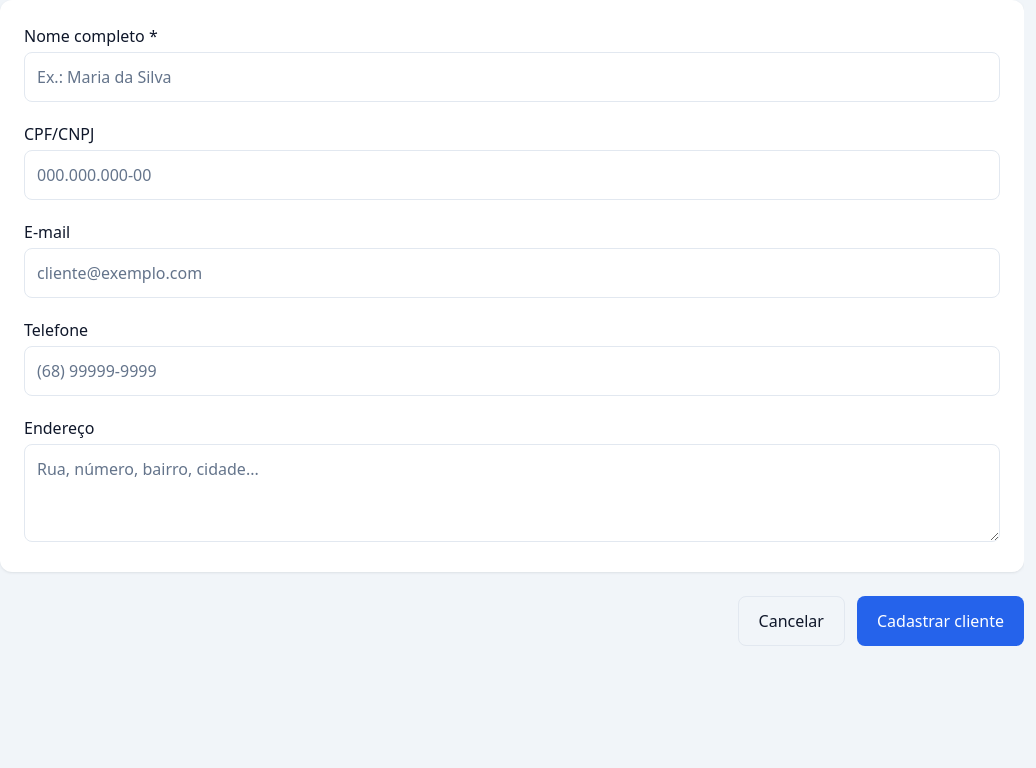
Test: CustomerForm › erro de campo sem campo visível cai no alerta geral
In the field labelled "Nome completo *": (512, 77) [24,52,1000,102], type "Maria"
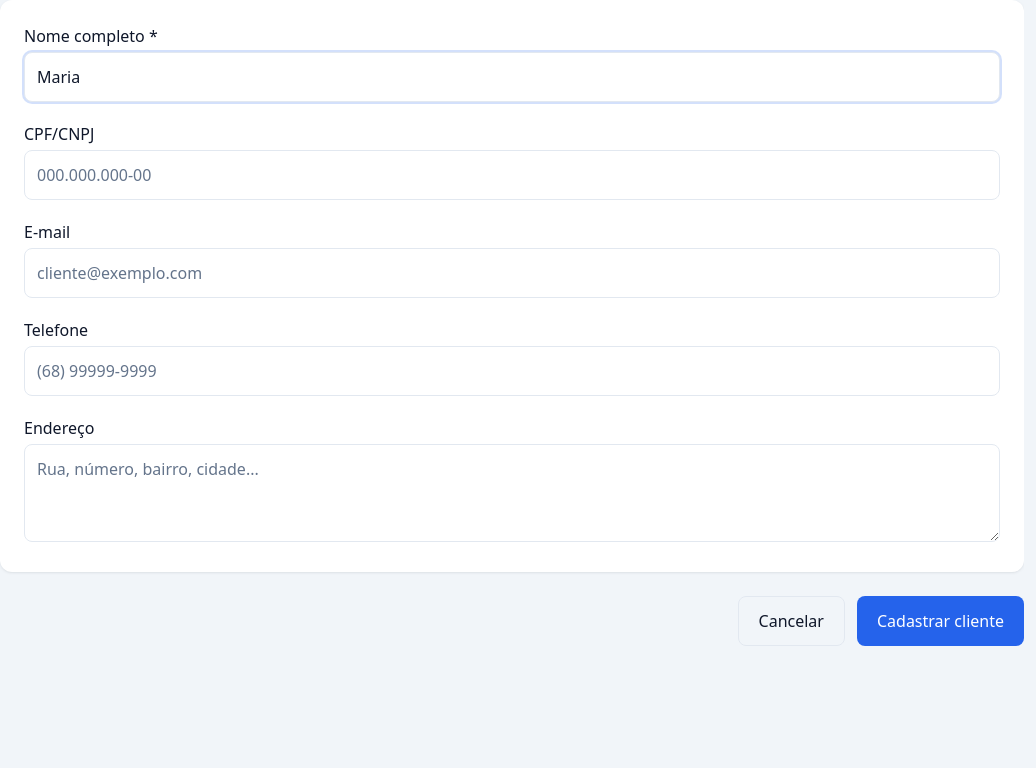
Click the button "Cadastrar cliente": (940, 621) [857,596,1024,646]
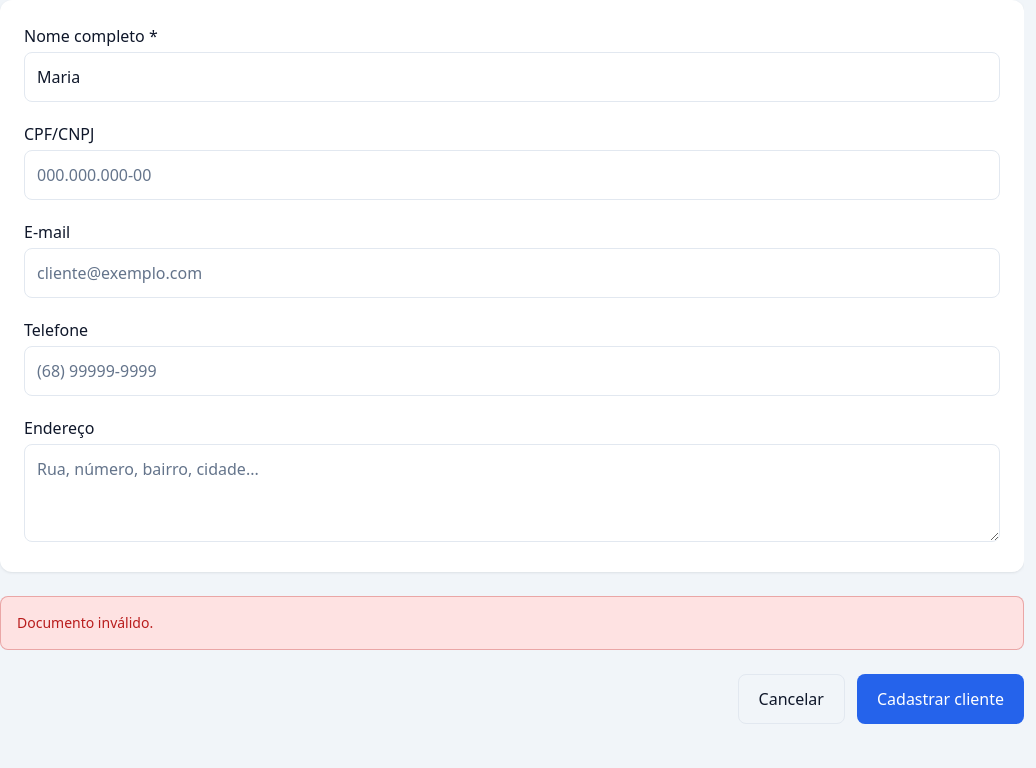
Result: the message reads "Documento inválido." at [17,613,153,632]
